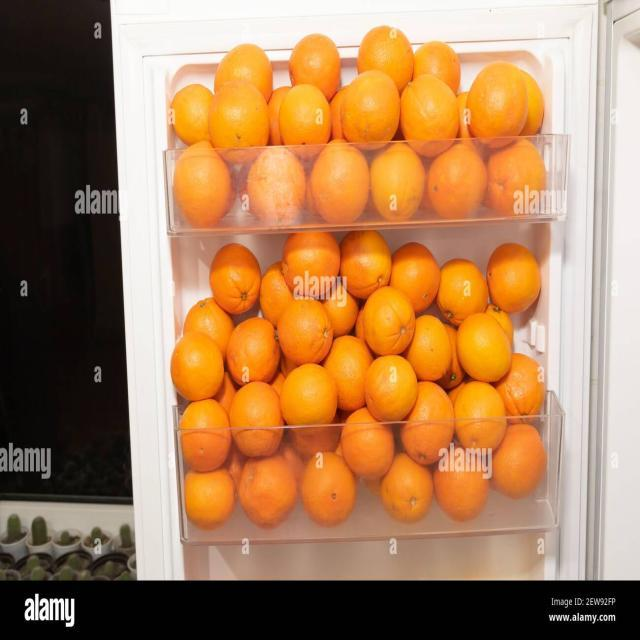Orange: (166, 25, 551, 531)
